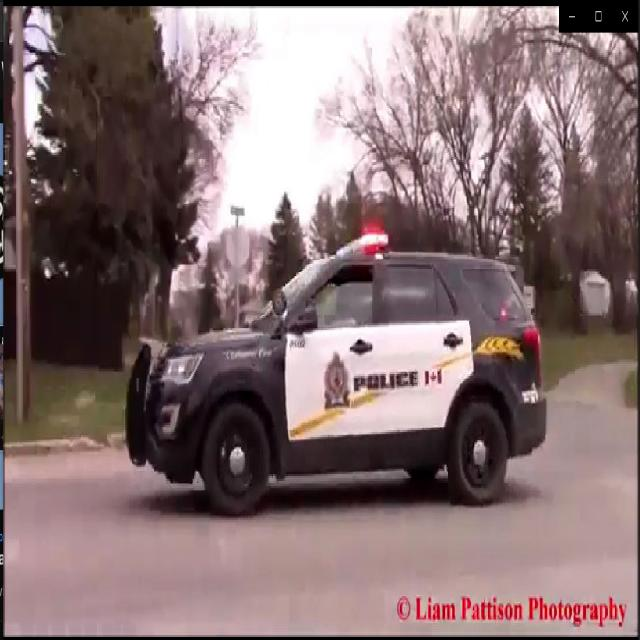emergency: (116, 221, 554, 533)
